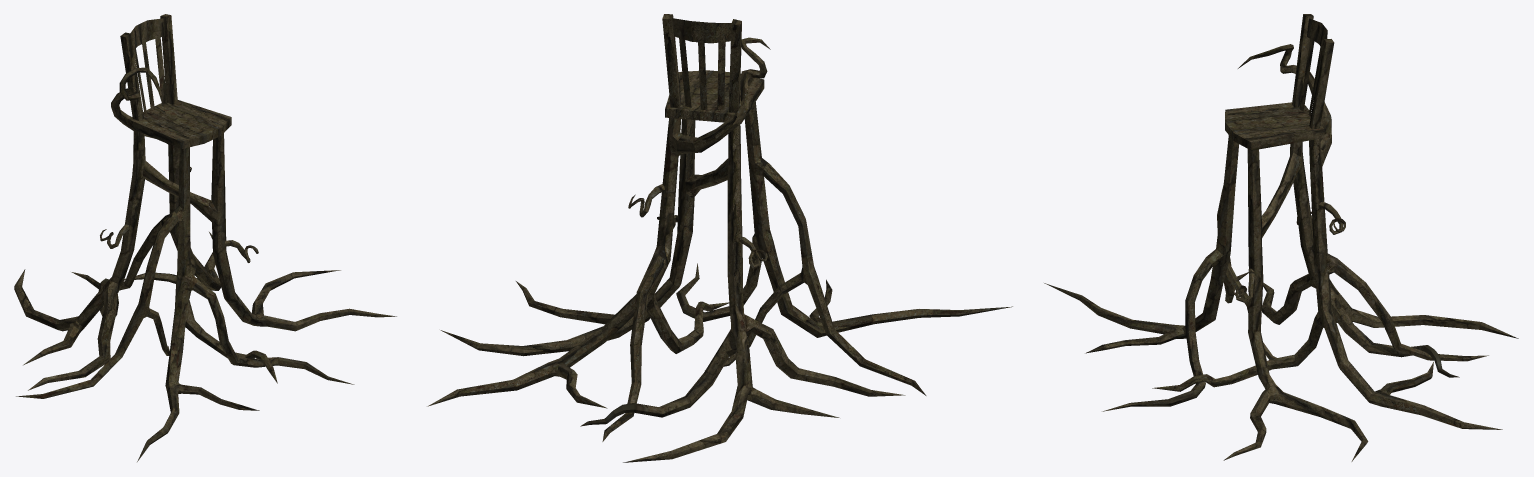
File: Elaine.Chair.fbx
3 views of the same model, side by side, from view 1: azimuth 30°, elevation 25°; view 2: azimuth 150°, elevation 25°; view 3: azimuth 270°, elevation 25° (orthographic). The views are drawn at different scales.
Parts seen in each view (by area): view 1: Chair_2.001; view 2: Chair_2.001; view 3: Chair_2.001.
Part boxes in pixels (x1,y1,x2,y2): Chair_2.001: (14,14,396,461); Chair_2.001: (427,14,1012,462); Chair_2.001: (1044,14,1518,461).
Size of the model in its own units: 236 by 190 by 245.
